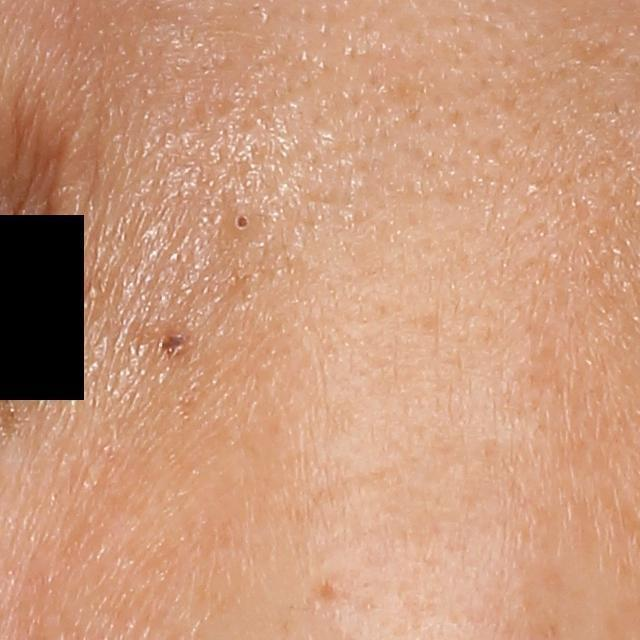comedo: (220, 197, 261, 242)
nevus: (154, 321, 192, 362)
